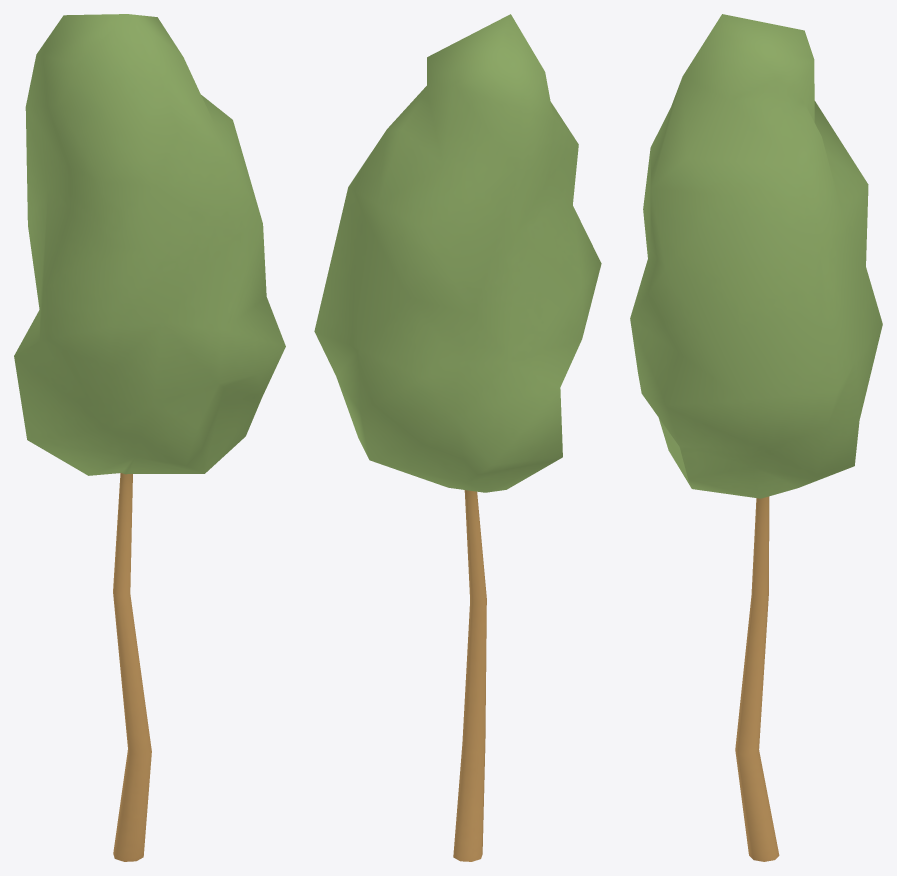
File: leafy_children.glb
3 renders of one model, left to right at view 1: azimuth 30°, elevation 25°; view 2: azimuth 150°, elevation 25°; view 3: azimuth 270°, elevation 25°, orthographic. The views are drawn at different scales.
Visible parts, largest first — view 1: Poros1.001; view 2: Poros1.001; view 3: Poros1.001.
Boxes of the visible parts, bbox=[...] form: Poros1.001: bbox=[14, 14, 285, 861]; Poros1.001: bbox=[314, 14, 601, 861]; Poros1.001: bbox=[630, 14, 882, 861].
Size of the model in its own units: 3.47 by 12.28 by 3.39.
1 material, 1 textured.
